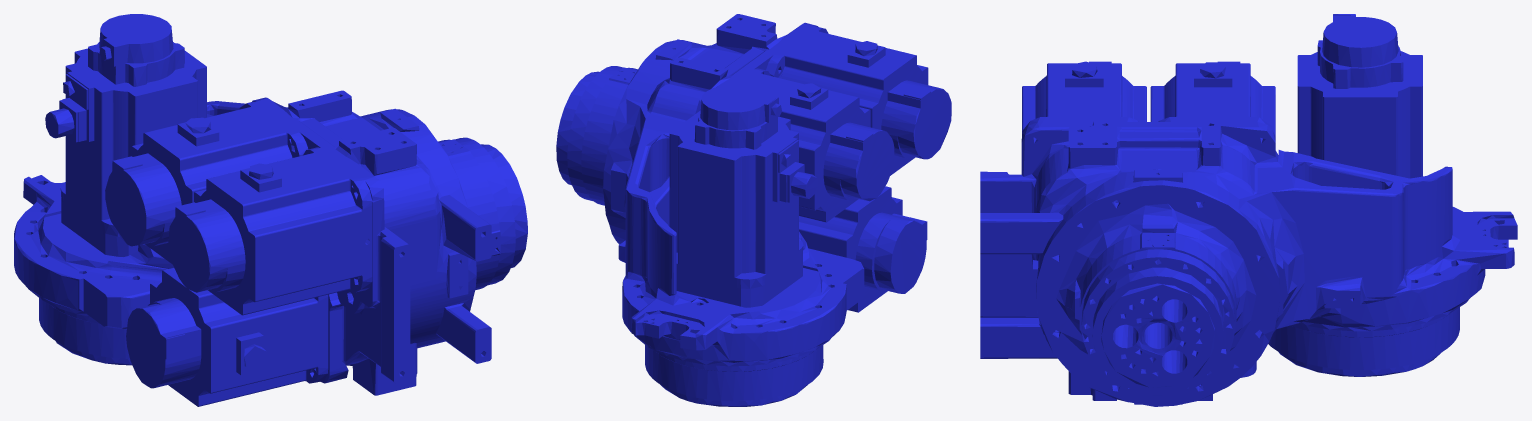
3 renders of one model, left to right at view 1: azimuth 30°, elevation 25°; view 2: azimuth 150°, elevation 25°; view 3: azimuth 270°, elevation 25°, orthographic. The views are drawn at different scales.
Parts seen in each view (by area): view 1: /Link3/Link3_001-mesh/0; view 2: /Link3/Link3_001-mesh/0; view 3: /Link3/Link3_001-mesh/0.
Part boxes in pixels (<box>): /Link3/Link3_001-mesh/0: <box>14,14,527,406</box>; /Link3/Link3_001-mesh/0: <box>556,14,951,406</box>; /Link3/Link3_001-mesh/0: <box>980,14,1517,406</box>.
Bounding box in the file's own units: 0.453 × 0.3537 × 0.5586.
